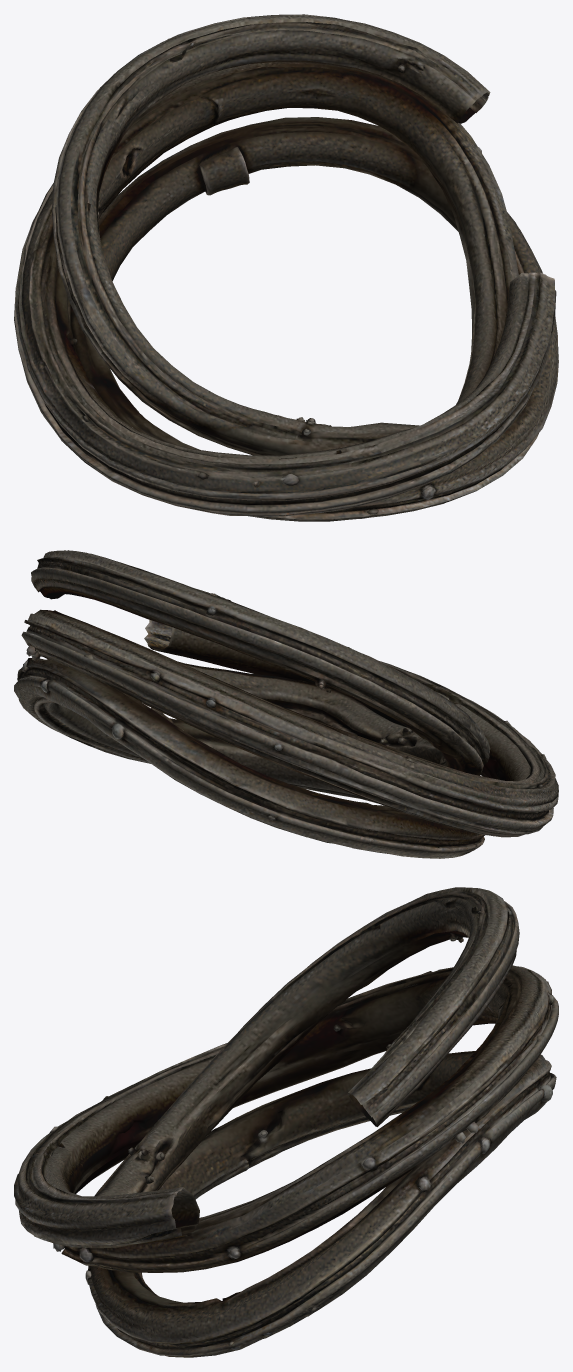
3 renders of one model, top to bottom at view 1: azimuth 30°, elevation 25°; view 2: azimuth 150°, elevation 25°; view 3: azimuth 270°, elevation 25°, orthographic. The views are drawn at different scales.
Parts seen in each view (by area): view 1: tripo_node_460e8c10-70b9-4f0f-831a-b60864f28b20; view 2: tripo_node_460e8c10-70b9-4f0f-831a-b60864f28b20; view 3: tripo_node_460e8c10-70b9-4f0f-831a-b60864f28b20.
Boxes of the visible parts, box(x1,y1,x2,y2) form: tripo_node_460e8c10-70b9-4f0f-831a-b60864f28b20: box(14, 14, 558, 521); tripo_node_460e8c10-70b9-4f0f-831a-b60864f28b20: box(14, 550, 558, 858); tripo_node_460e8c10-70b9-4f0f-831a-b60864f28b20: box(14, 887, 558, 1357).
Bounding box in the file's own units: 0.998 × 0.6738 × 0.8926.
1 material, 1 textured.
